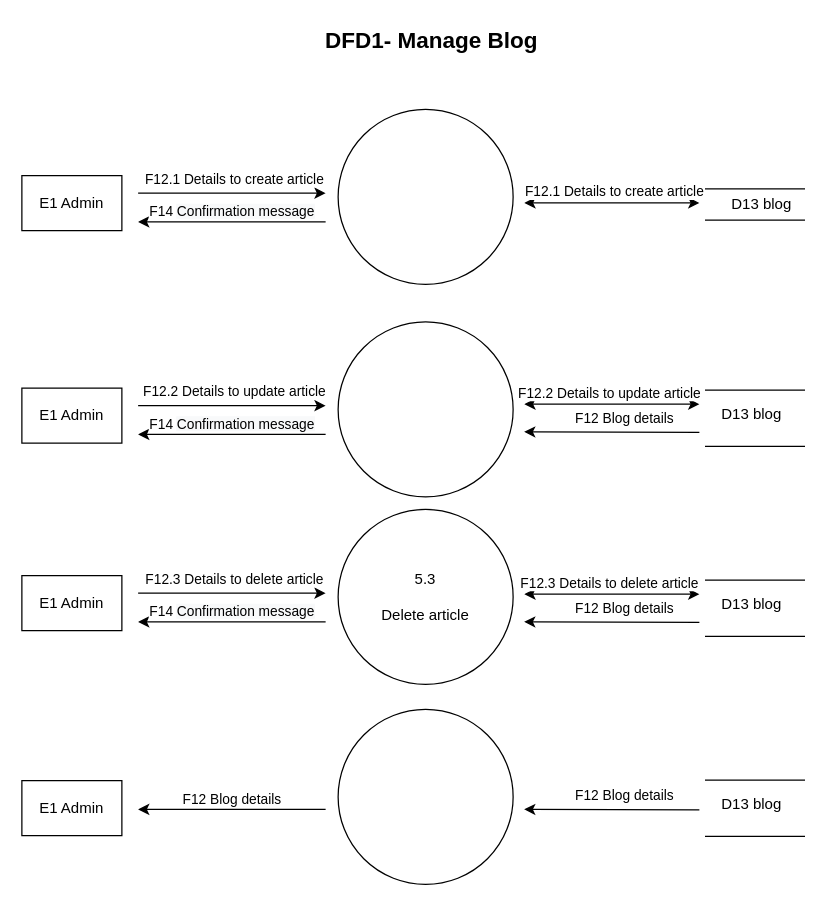
The diagram is 835 pixels wide and 906 high, and some of its shapes have lost their labels. The shapes that lost their labels are listed below. From the top down, each one's centre as x and y in pixels, then its label:
At (x=425, y=196): "5.1 Create article".
At (x=425, y=409): "5.2 Update article".
At (x=425, y=796): "5.4 Read article".
